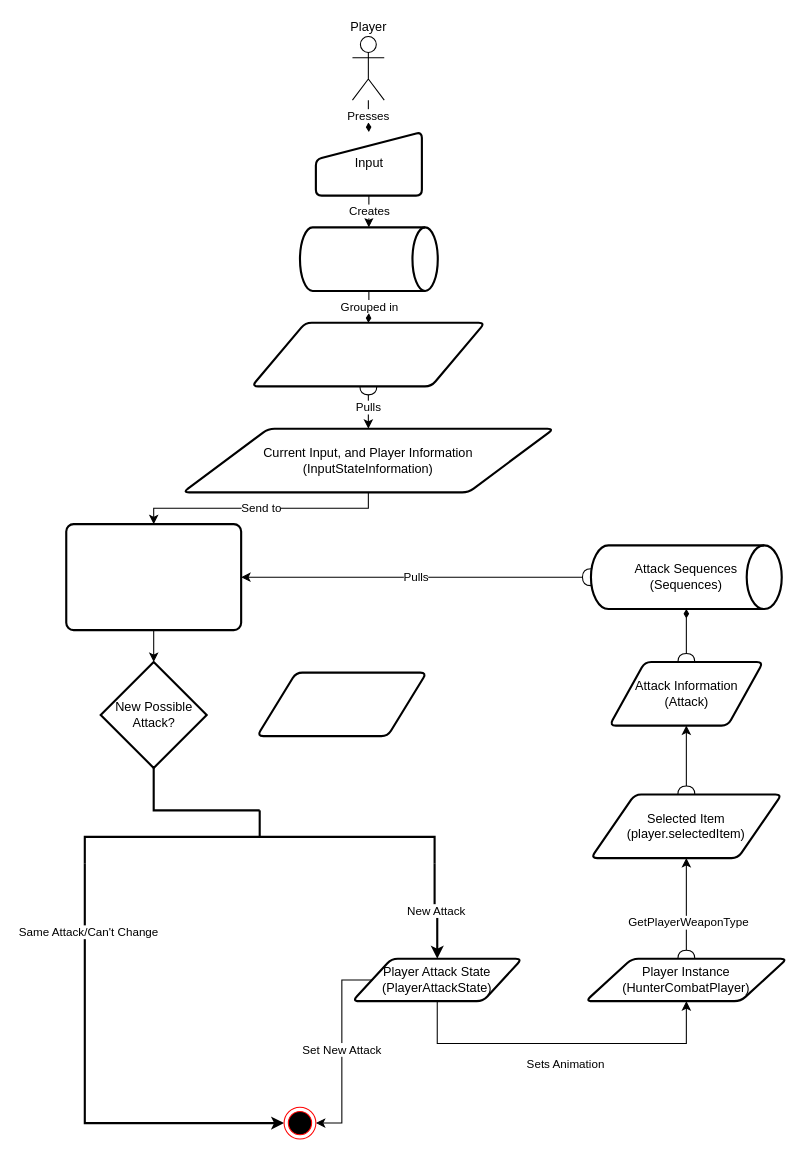
Some shapes in this 806 by 1158 pixel diagram are drawn without their labels. Each missing label, with the centre of its shape:
"Buffered Inputs This Frame (PlayerBufferInformation)" belongs at point (367, 354).
"BufferedInput" belongs at point (368, 259).
"Current Attack State (ActionState)" belongs at point (341, 704).
"Determine Attack (ComboSequenceManager)" belongs at point (153, 577).
"Yes/No" belongs at point (259, 836).
